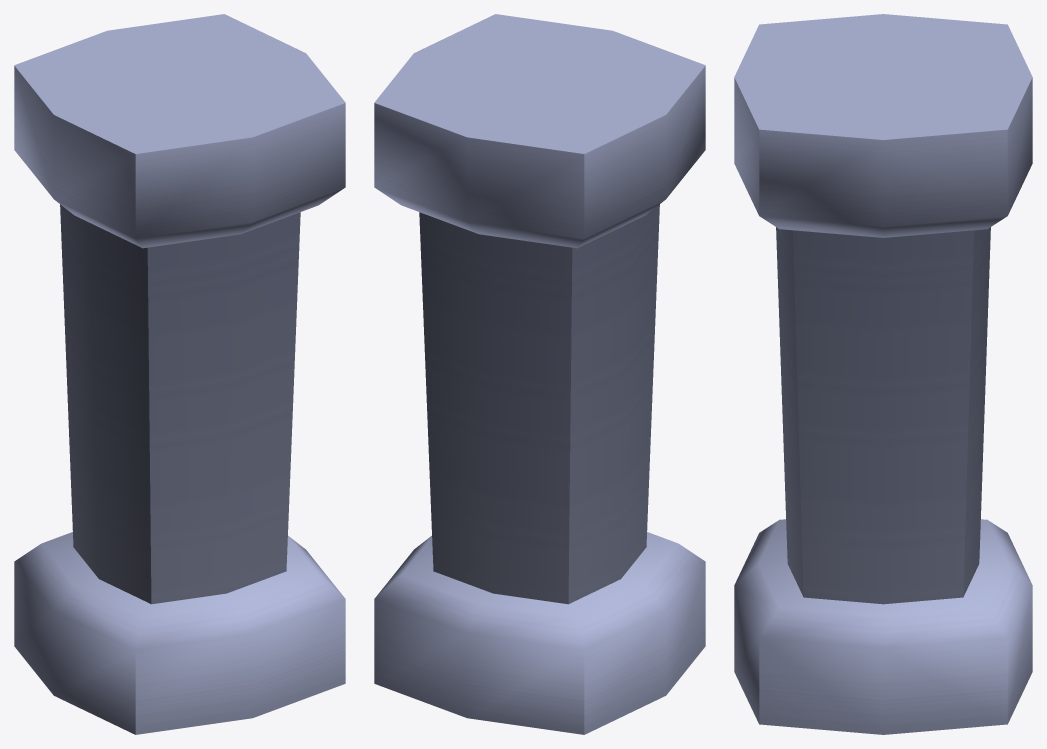
Rendered from column.fbx.
3 renders of one model, left to right at view 1: azimuth 30°, elevation 25°; view 2: azimuth 150°, elevation 25°; view 3: azimuth 270°, elevation 25°, orthographic. The views are drawn at different scales.
Visible parts, largest first — view 1: column; view 2: column; view 3: column.
Boxes of the visible parts, x1,y1,x2,y2 form: column: (14,14,345,734); column: (374,14,705,734); column: (734,14,1032,734).
Bounding box in the file's own units: 50 × 110 × 50.
